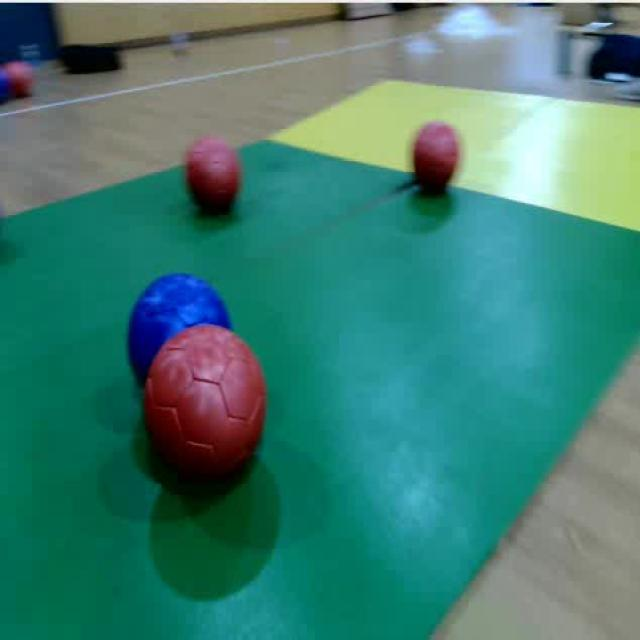blue_ball: (127, 265, 238, 417), (0, 63, 12, 110)
red_ball: (139, 321, 272, 496), (182, 132, 245, 221), (406, 117, 466, 200), (3, 56, 36, 101)
